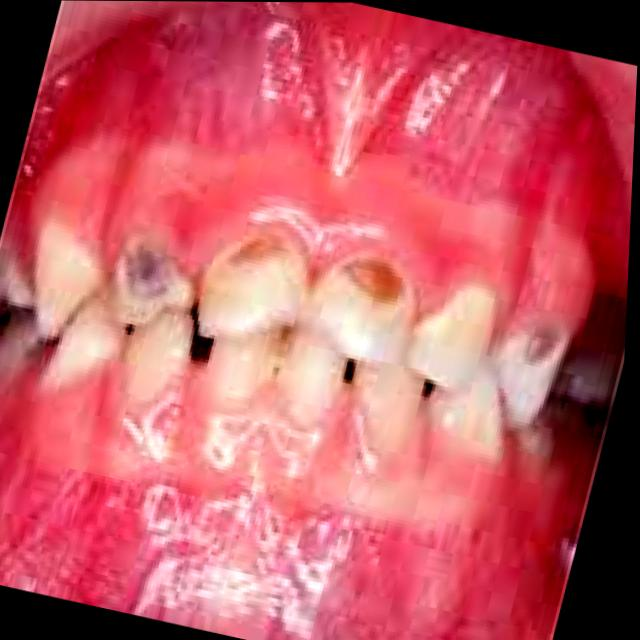cariess: (310, 256, 417, 360), (115, 238, 193, 323)
